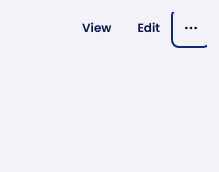
Test: RowActions › puts the rest in a keyboard-operable More menu named for the row
Later steps or results of the test are not shown.
Press Arrowdown
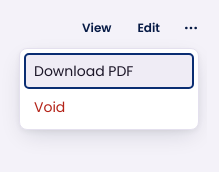
Now the menu items read "Download PDF", "Void", in this order, box left=24, top=53, right=194, bottom=89; left=24, top=89, right=194, bottom=125
Press Arrowdown
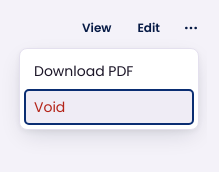
Press Arrowdown
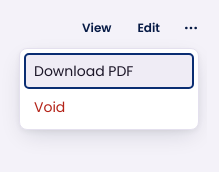
Press End Enter
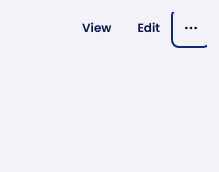
Now the menu is gone
Click the button named "More actions for INV-1": click(191, 28) left=175, top=12, right=207, bottom=44
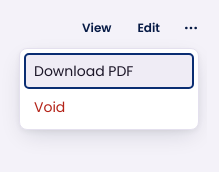
Now the menu is shown, box left=19, top=48, right=199, bottom=130
Press Escape
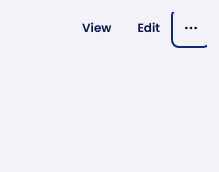
Now the menu is gone
